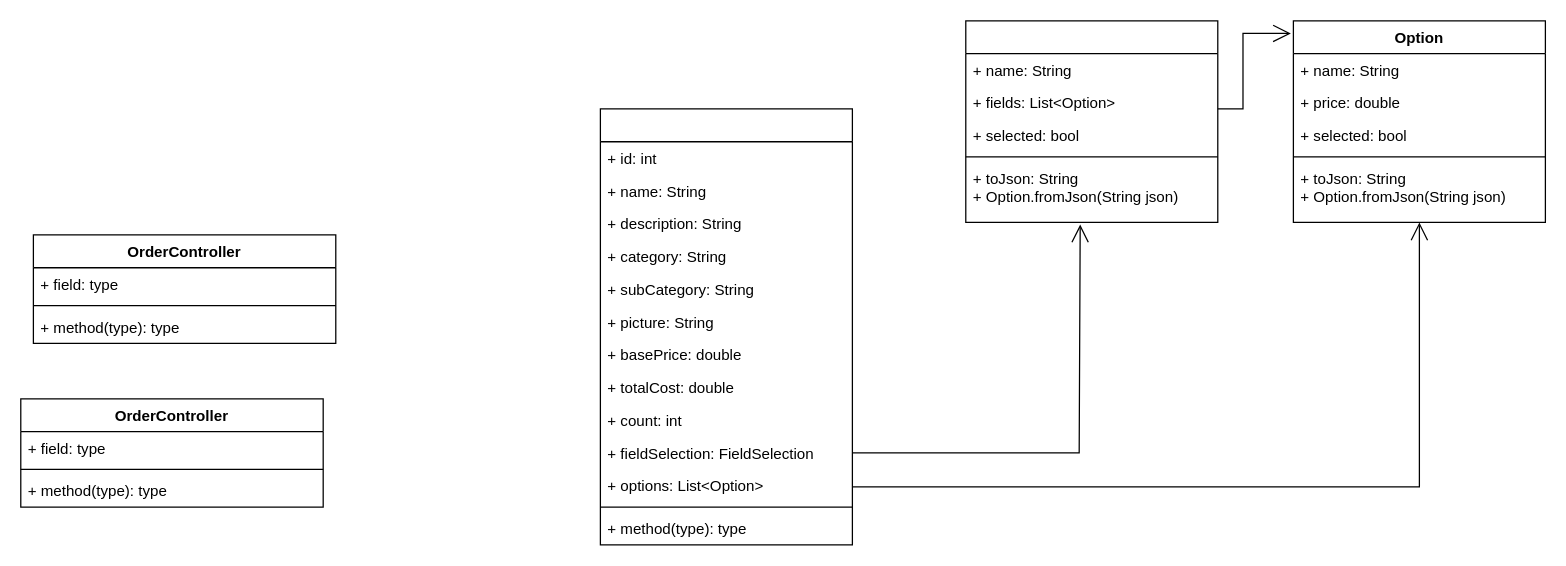
This 1566x566 diagram has some shape labels left out. Each missing label, with the box of its shape:
DishObject: (599, 108, 852, 545)
FieldSelection: (965, 20, 1218, 222)
